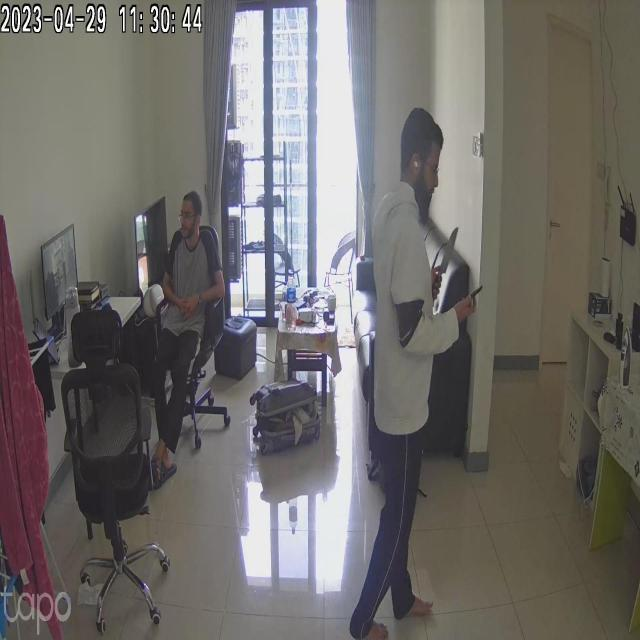Knife: (431, 221, 462, 286)
